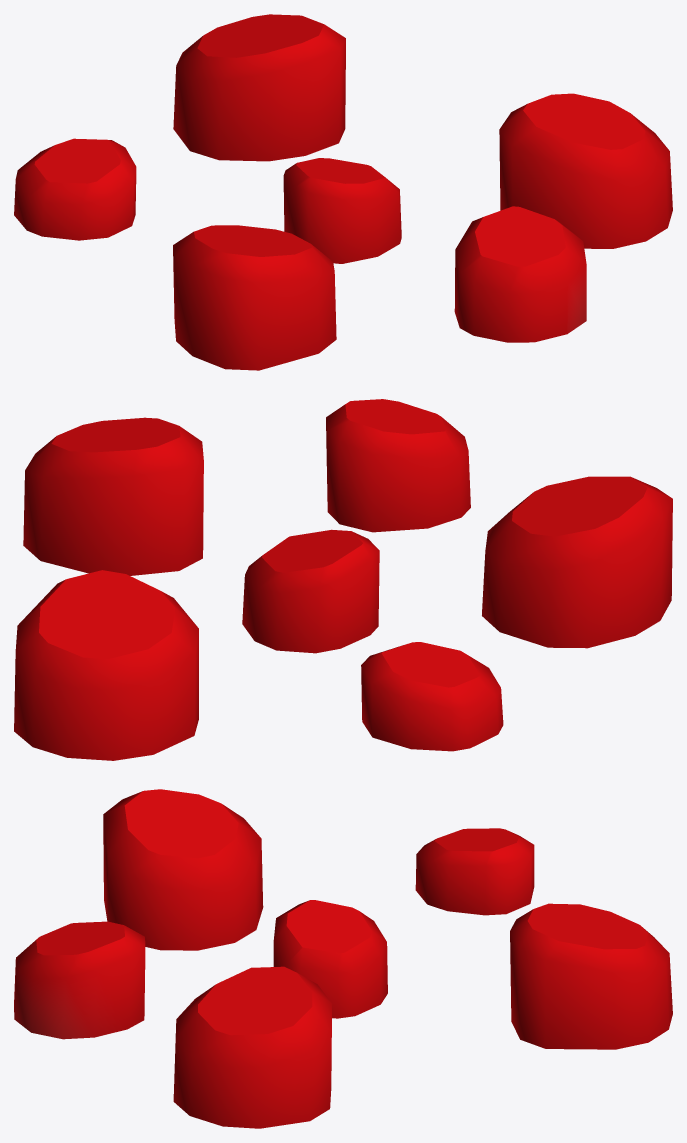
The model's file is Sunken Tomb Pebbles.fbx.
3 views of the same model, one above another, from view 1: azimuth 30°, elevation 25°; view 2: azimuth 150°, elevation 25°; view 3: azimuth 270°, elevation 25° (orthographic). The views are drawn at different scales.
Visible parts, largest first — view 1: Pebbles_LOD0; view 2: Pebbles_LOD0; view 3: Pebbles_LOD0.
Boxes of the visible parts, x1=… form: Pebbles_LOD0: x1=14, y1=14, x2=672, y2=370; Pebbles_LOD0: x1=14, y1=399, x2=672, y2=760; Pebbles_LOD0: x1=14, y1=789, x2=672, y2=1128.
Size of what is drawn, in the model's own units: 970 by 188 by 1079.
